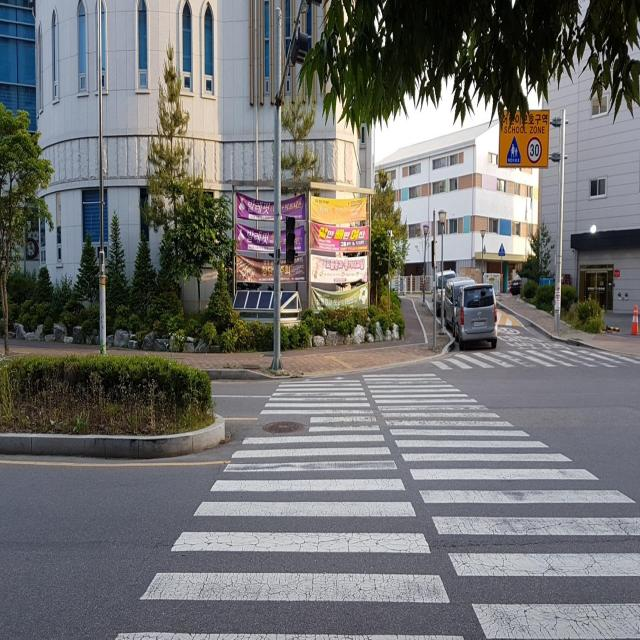횡단보도: (112, 369, 640, 640), (433, 347, 640, 369)
